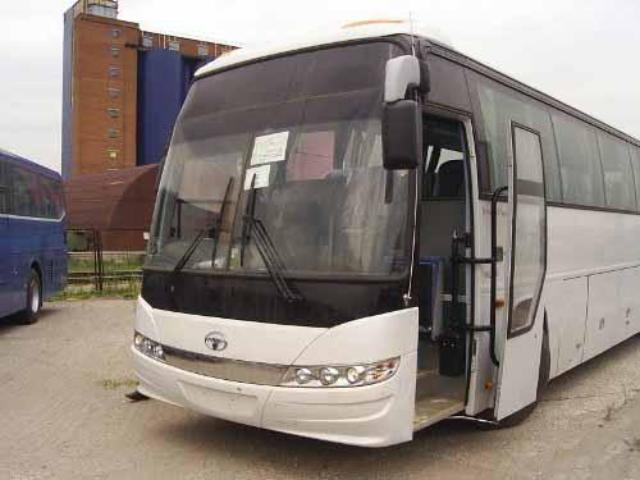bus: (122, 15, 640, 456)
